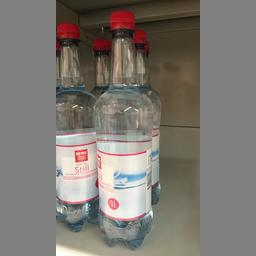water: (94, 8, 153, 249), (56, 22, 98, 233)
